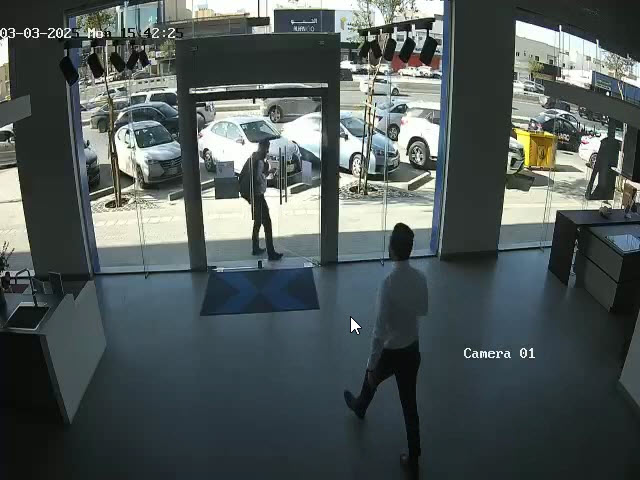employee: (343, 222, 429, 465), (241, 139, 286, 262)
